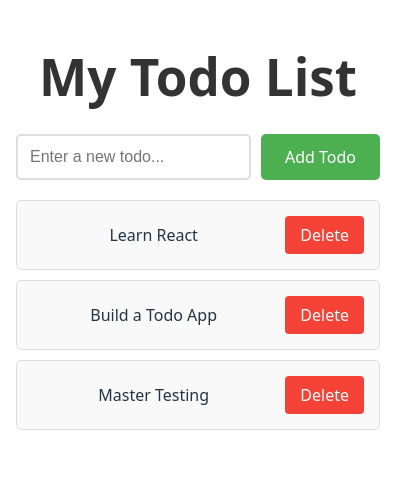
it: TodoList Component › trims whitespace from todo input
The width and height of the screenshot is (398, 487).
Type "   Trimmed Todo   " into the field with placeholder "Enter a new todo...". click: (134, 157)
box: x1=16 y1=134 x2=251 y2=180
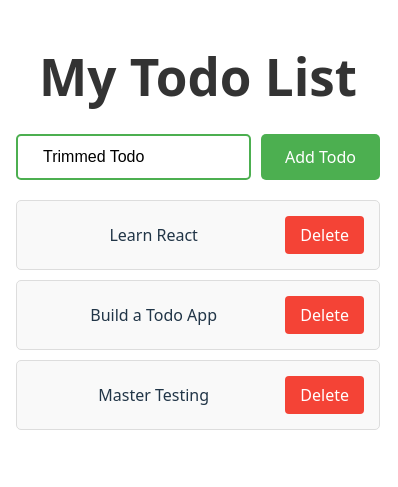
Click the button "Add Todo". click: (320, 157)
box: x1=261 y1=134 x2=380 y2=180
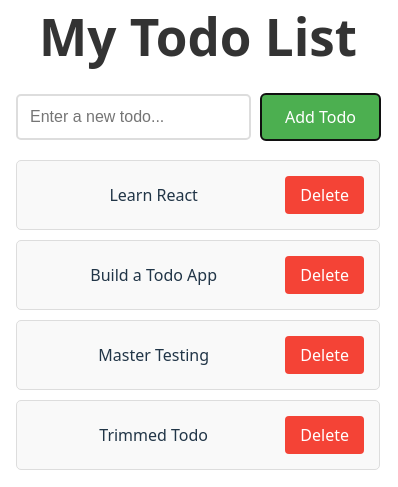
expect the text "Trimmed Todo" is shown: met, box x1=99 y1=424 x2=208 y2=446
